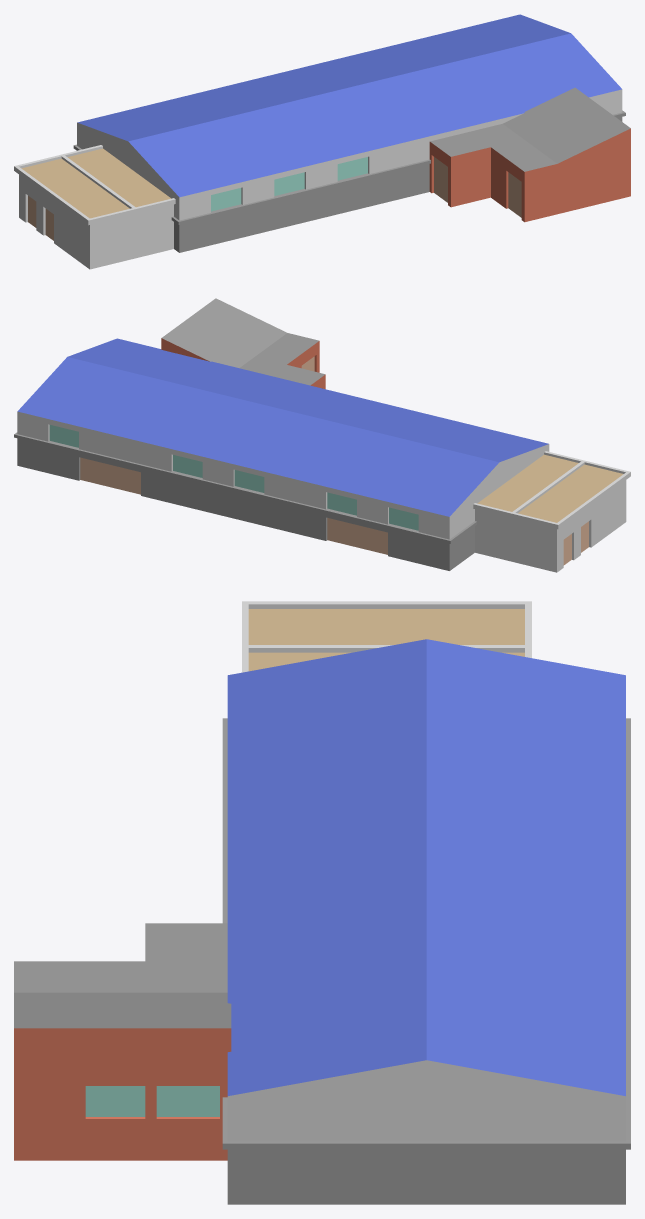
File: conserverie poisson.fbx
The picture shows the model from 3 angles, top to bottom: view 1: azimuth 30°, elevation 25°; view 2: azimuth 150°, elevation 25°; view 3: azimuth 270°, elevation 25°; orthographic projection. The views are drawn at different scales.
Visible parts, largest first — view 1: conserverie poisson; view 2: conserverie poisson; view 3: conserverie poisson.
Boxes of the visible parts, x1,y1,x2,y2 form: conserverie poisson: (14, 14, 630, 269); conserverie poisson: (14, 298, 630, 572); conserverie poisson: (14, 601, 630, 1204).
Size of the model in its own units: 1202 by 160 by 619.
